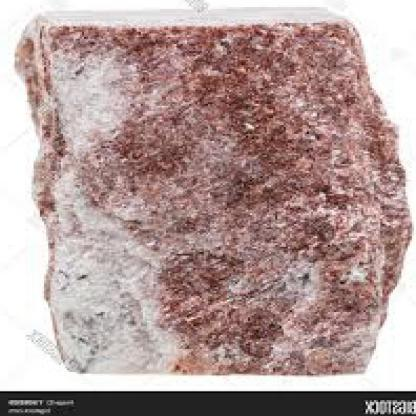Metamorphic_Quartize: (35, 7, 415, 381)
